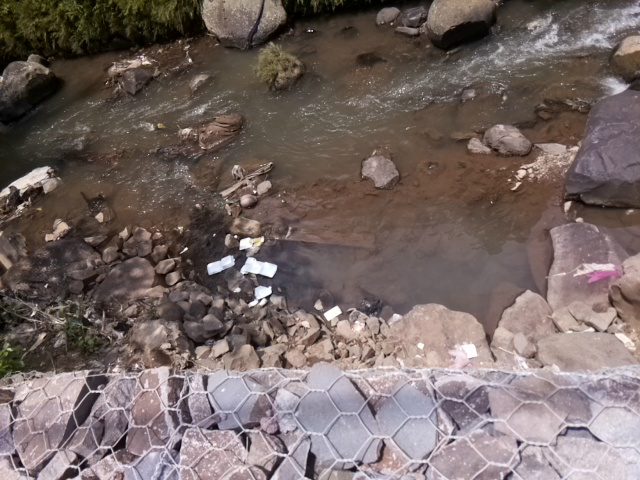Sampah_Plastik: (1, 165, 51, 203), (556, 260, 623, 281), (358, 297, 380, 315)
Sampah_Styrofoam: (241, 257, 278, 279), (204, 255, 237, 278), (323, 304, 345, 324), (252, 284, 273, 300), (238, 236, 252, 250)
